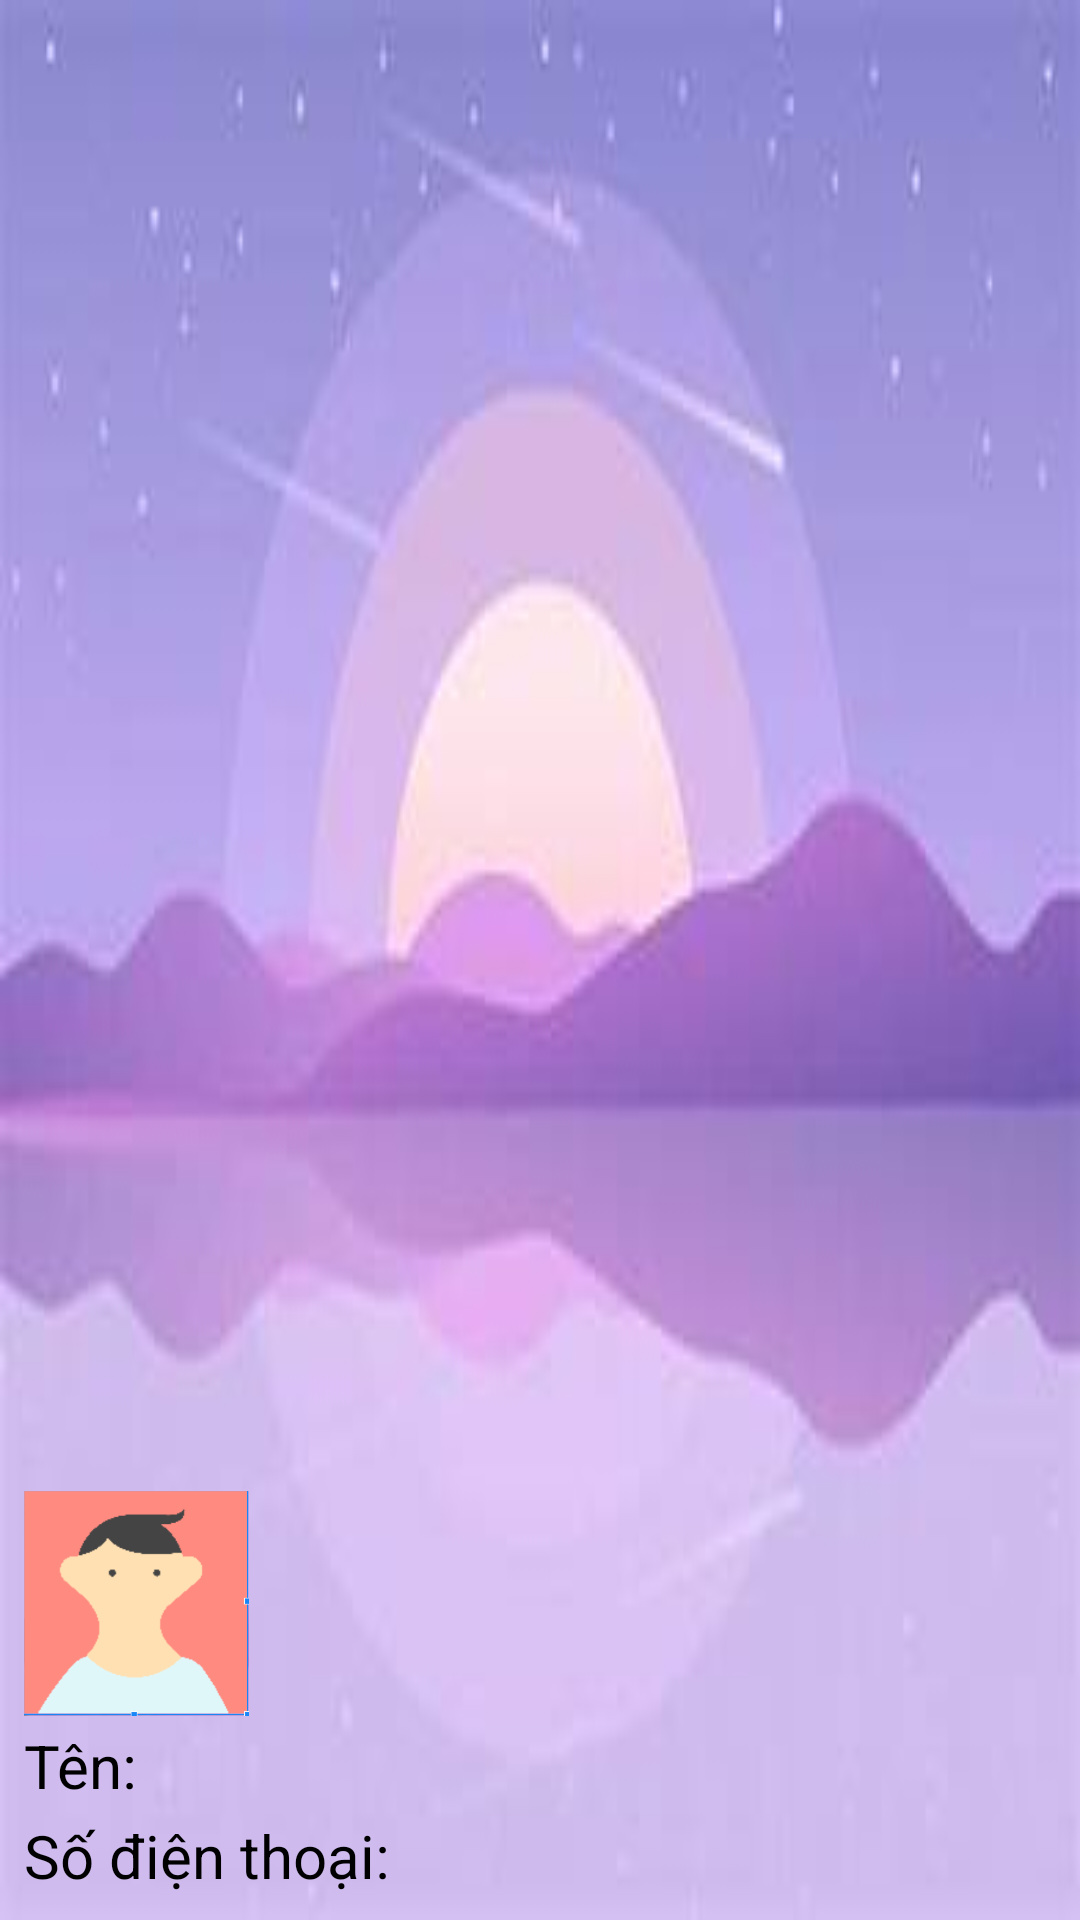

Where to tap for icons on this 1080w x 1920h app screen, as [x,y]:
anhminhhoa: [136,1603]
